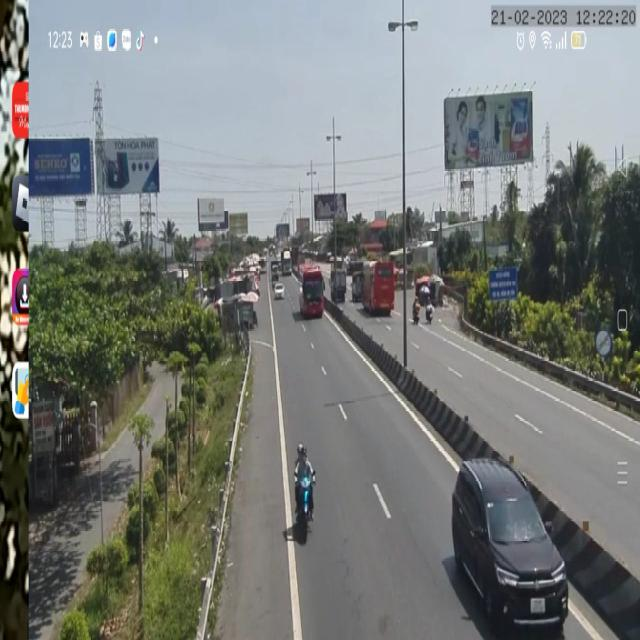bus: (359, 259, 397, 317), (297, 260, 326, 322)
car: (450, 453, 571, 638), (273, 282, 284, 294)
motorbike: (293, 444, 315, 540), (412, 294, 420, 328), (426, 299, 434, 328)
